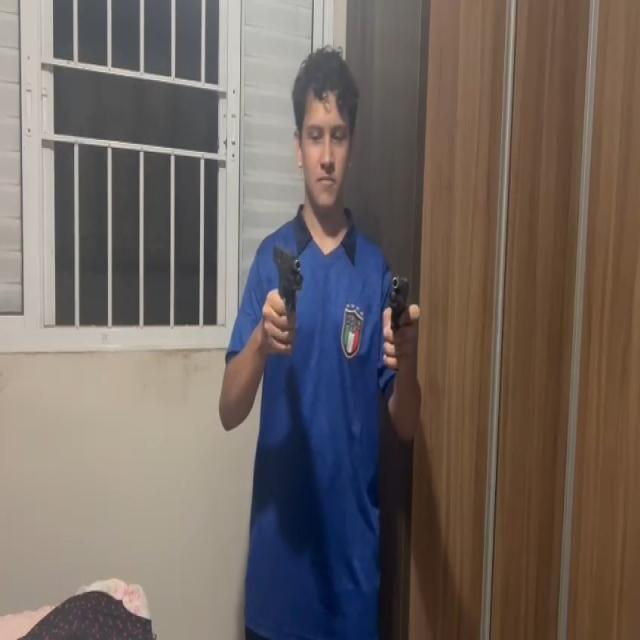gun: (272, 243, 306, 308), (387, 273, 413, 321)
